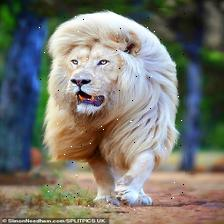Lion: (39, 9, 186, 211)
